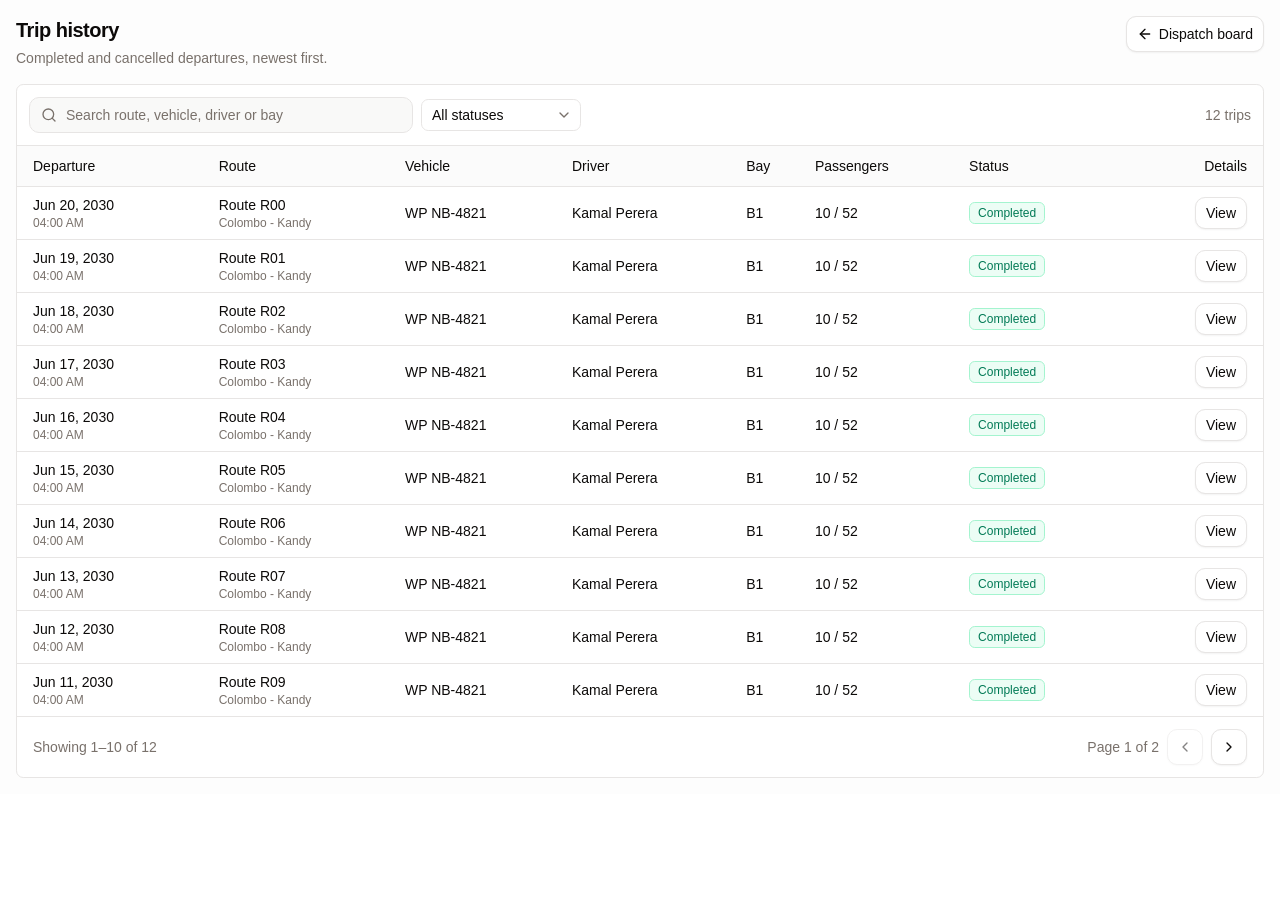
TripHistoryPage › shows ten trips per page and moves between pages
Expected: the text "Route R00" is shown, [219, 196, 286, 212]
Expected: the text "Page 1 of 2" is shown, [1087, 736, 1159, 756]
Click the button named "Next page": x=1229, y=746 [1211, 728, 1247, 764]
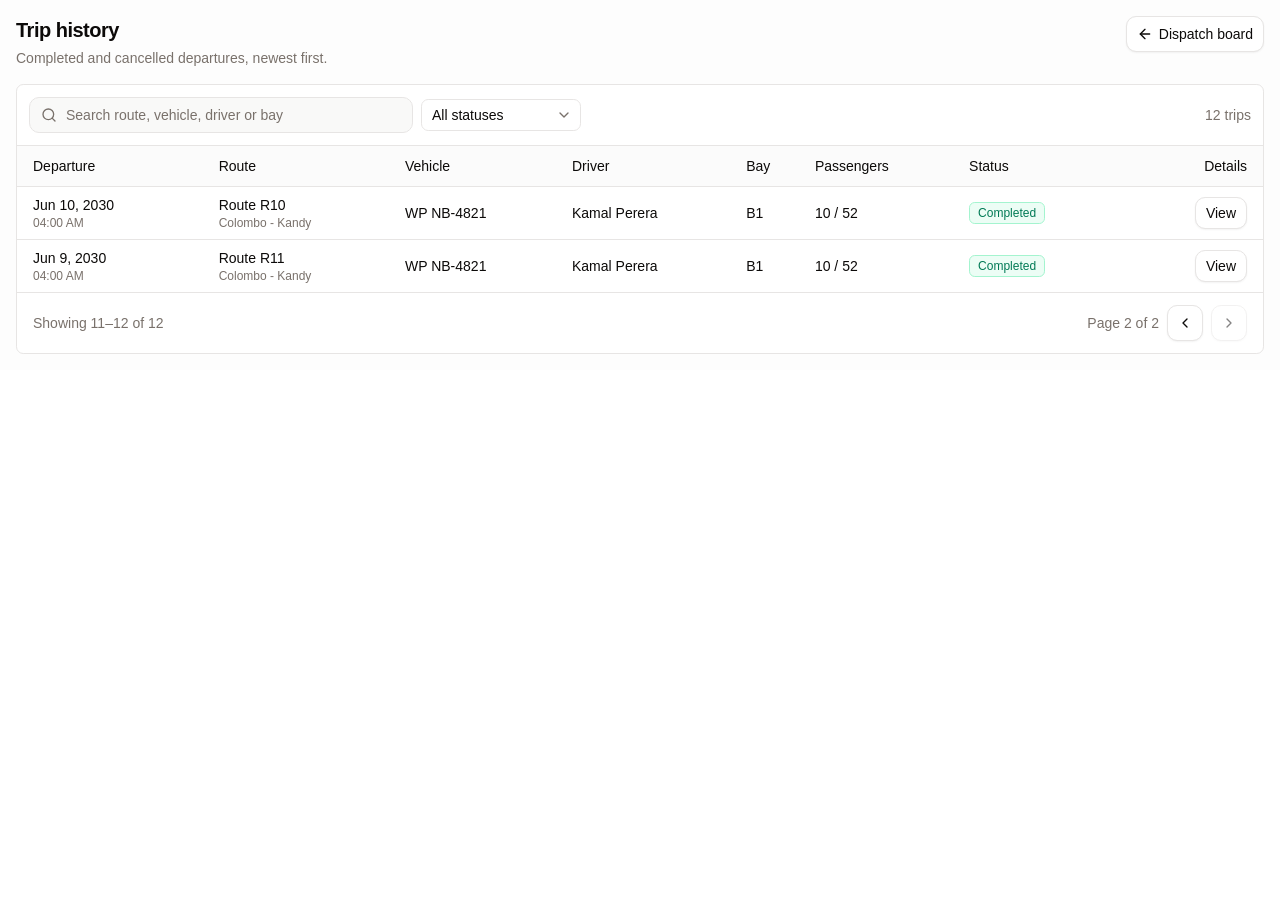
Expected: the text "Page 2 of 2" is shown, [1087, 312, 1159, 332]
Expected: the button named "Next page" is disabled, [1211, 304, 1247, 340]
